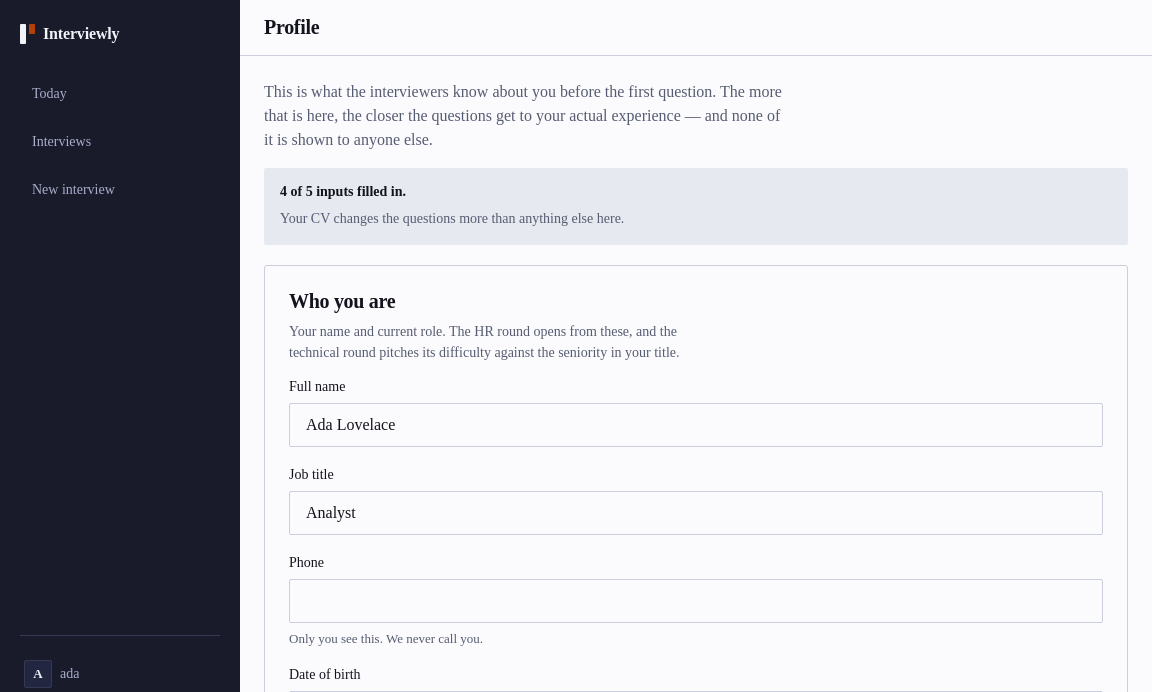
Test case: /profile — what the interviewer knows about you › saves the identity card and reports the outcome
The width and height of the screenshot is (1152, 692).
Replace the text in the field showing "Analyst" with "Data lead". click: {"x": 696, "y": 513}
box: [289,491,1103,535]
(page scrolled)
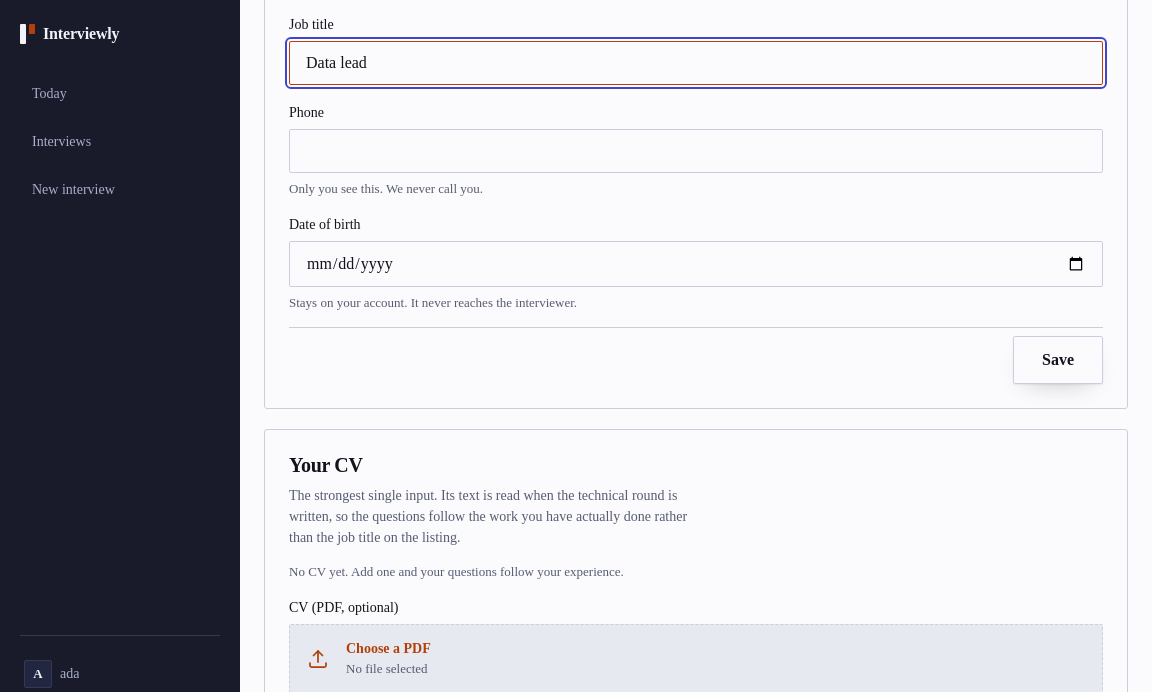
Click the button "Save". click: {"x": 1058, "y": 360}
box: [1013,336,1103,384]
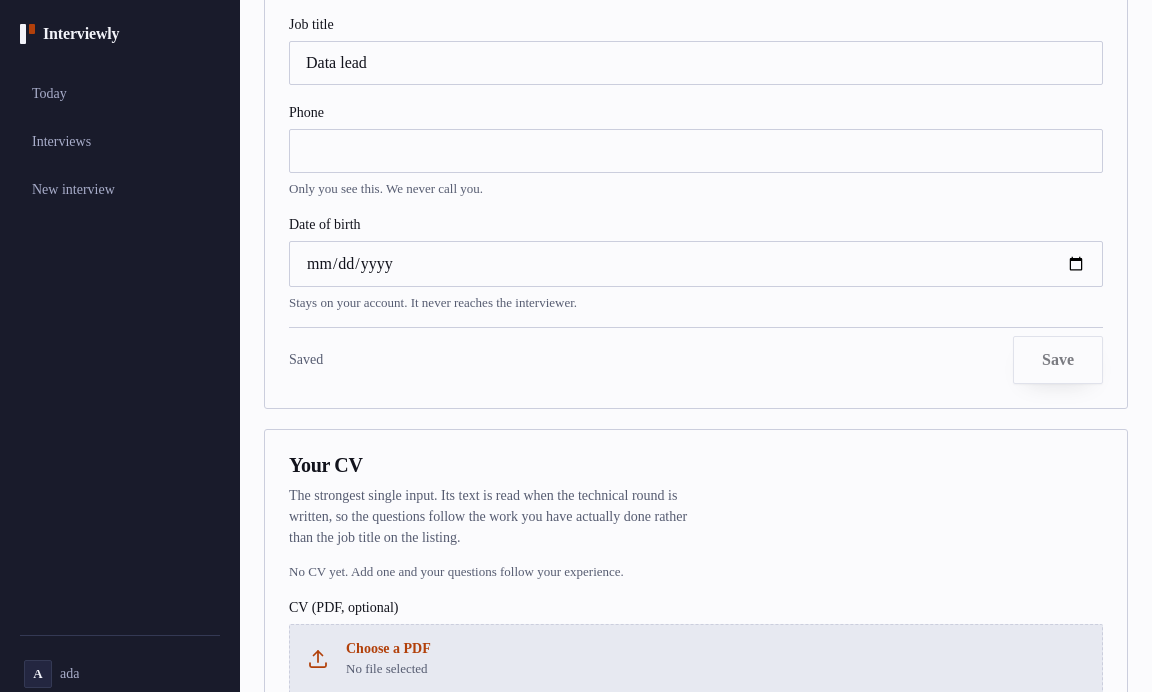
Now the text "Saved" is shown, box [289,352,323,368]
